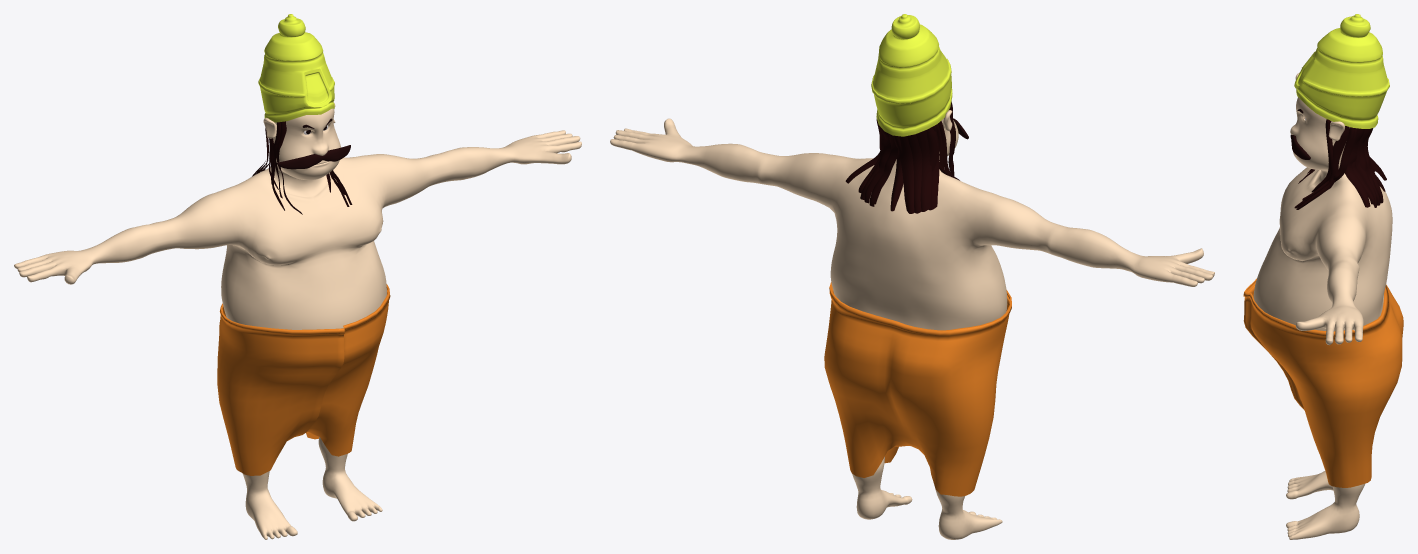
The model's file is ravana.glb.
3 renders of one model, left to right at view 1: azimuth 30°, elevation 25°; view 2: azimuth 150°, elevation 25°; view 3: azimuth 270°, elevation 25°, orthographic. The views are drawn at different scales.
Parts seen in each view (by area): view 1: kumbh5a:kumbh5a:pCube53, hairs pCube53, hairs pCylinder2, polySurface16; view 2: kumbh5a:kumbh5a:pCube53, hairs pCube53, hairs pCylinder2, group1 hairs kumbh5a:kumbh5a:pPlane23, hairs kumbh5a:kumbh5a:pPlane10; view 3: kumbh5a:kumbh5a:pCube53, hairs pCube53, hairs pCylinder2, hairs kumbh5a:kumbh5a:pPlane15, group1 hairs pPlane26, group1 hairs kumbh5a:kumbh5a:pPlane27, group1 hairs kumbh5a:kumbh5a:pPlane20, group1 hairs kumbh5a:kumbh5a:pPlane21, hairs kumbh5a:kumbh5a:pPlane16, group1 hairs kumbh5a:kumbh5a:pPlane30, hairs kumbh5a:kumbh5a:pPlane8, group1 hairs kumbh5a:kumbh5a:pPlane24 (+2 smaller).
Part boxes in pixels (bbox=[...]): kumbh5a:kumbh5a:pCube53: bbox=[14, 102, 581, 539]; hairs pCube53: bbox=[217, 284, 390, 475]; hairs pCylinder2: bbox=[258, 14, 334, 122]; polySurface16: bbox=[276, 145, 350, 169]; kumbh5a:kumbh5a:pCube53: bbox=[610, 110, 1214, 539]; hairs pCube53: bbox=[824, 282, 1011, 496]; hairs pCylinder2: bbox=[871, 14, 952, 136]; group1 hairs kumbh5a:kumbh5a:pPlane23: bbox=[899, 136, 914, 213]; hairs kumbh5a:kumbh5a:pPlane10: bbox=[916, 130, 931, 211]; kumbh5a:kumbh5a:pCube53: bbox=[1253, 73, 1392, 539]; hairs pCube53: bbox=[1243, 278, 1403, 487]; hairs pCylinder2: bbox=[1294, 14, 1389, 128]; hairs kumbh5a:kumbh5a:pPlane15: bbox=[1344, 134, 1370, 207]; group1 hairs pPlane26: bbox=[1302, 127, 1354, 200]; group1 hairs kumbh5a:kumbh5a:pPlane27: bbox=[1294, 126, 1347, 208]; group1 hairs kumbh5a:kumbh5a:pPlane20: bbox=[1311, 119, 1332, 192]; group1 hairs kumbh5a:kumbh5a:pPlane21: bbox=[1355, 129, 1376, 207]; hairs kumbh5a:kumbh5a:pPlane16: bbox=[1296, 126, 1349, 209]; group1 hairs kumbh5a:kumbh5a:pPlane30: bbox=[1359, 140, 1380, 205]; hairs kumbh5a:kumbh5a:pPlane8: bbox=[1351, 128, 1374, 204]; group1 hairs kumbh5a:kumbh5a:pPlane24: bbox=[1364, 133, 1383, 203].
Size of the model in its own units: 20.39 by 17.05 by 4.96.
